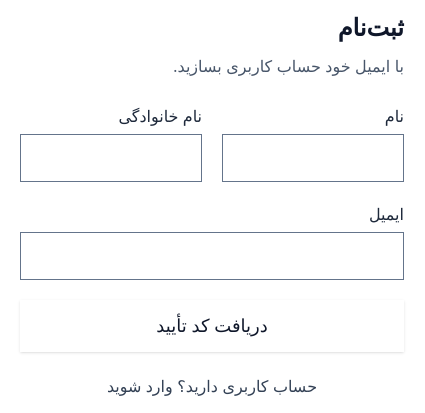
it: RegisterScreen › 503 feature_disabled on the start closes registration with the operator text
Type "نیما" into the field labelled "نام".
click(313, 158); type("نیما")  # box [223,135,403,181]
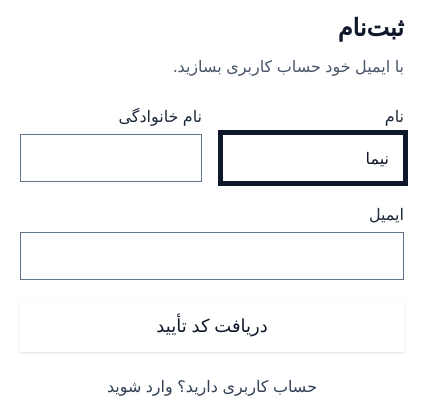
Type "رضایی" into the field labelled "نام خانوادگی".
click(111, 158); type("رضایی")  # box [21,135,201,181]
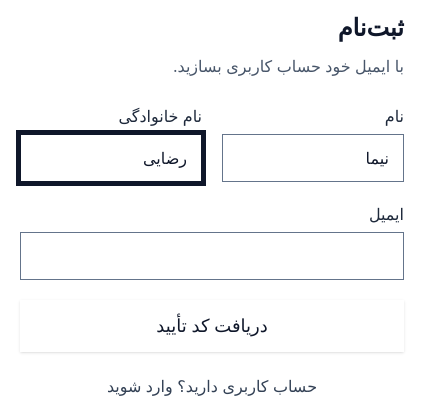
Type "new@example.com" into the field labelled "ایمیل".
click(212, 256); type("new@example.com")  # box [21,233,403,279]
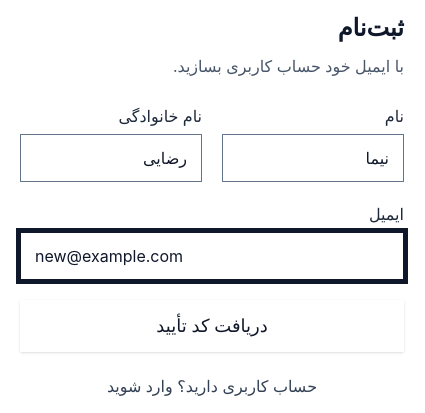
Click the button "دریافت کد تأیید".
click(212, 326)  # box [20,300,404,352]
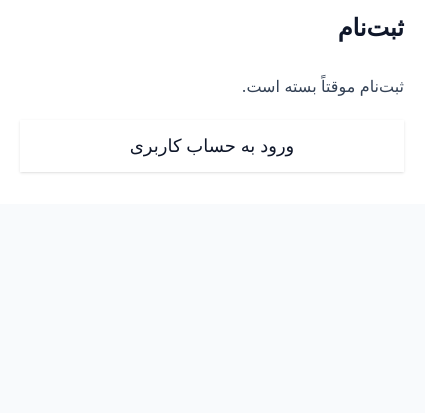
Expected: the text "ثبت‌نام موقتاً بسته است." is shown, [242,76,404,96]
Expected: the field is gone
